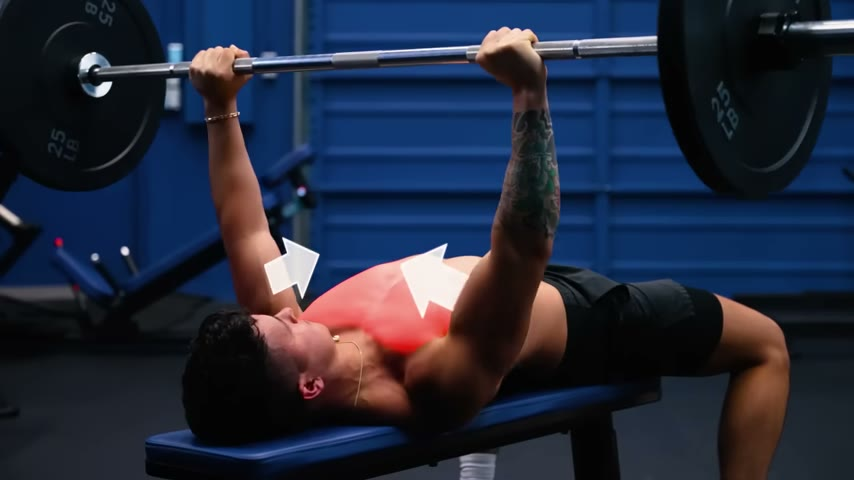barbell_plate_side: (29, 0, 137, 251)
